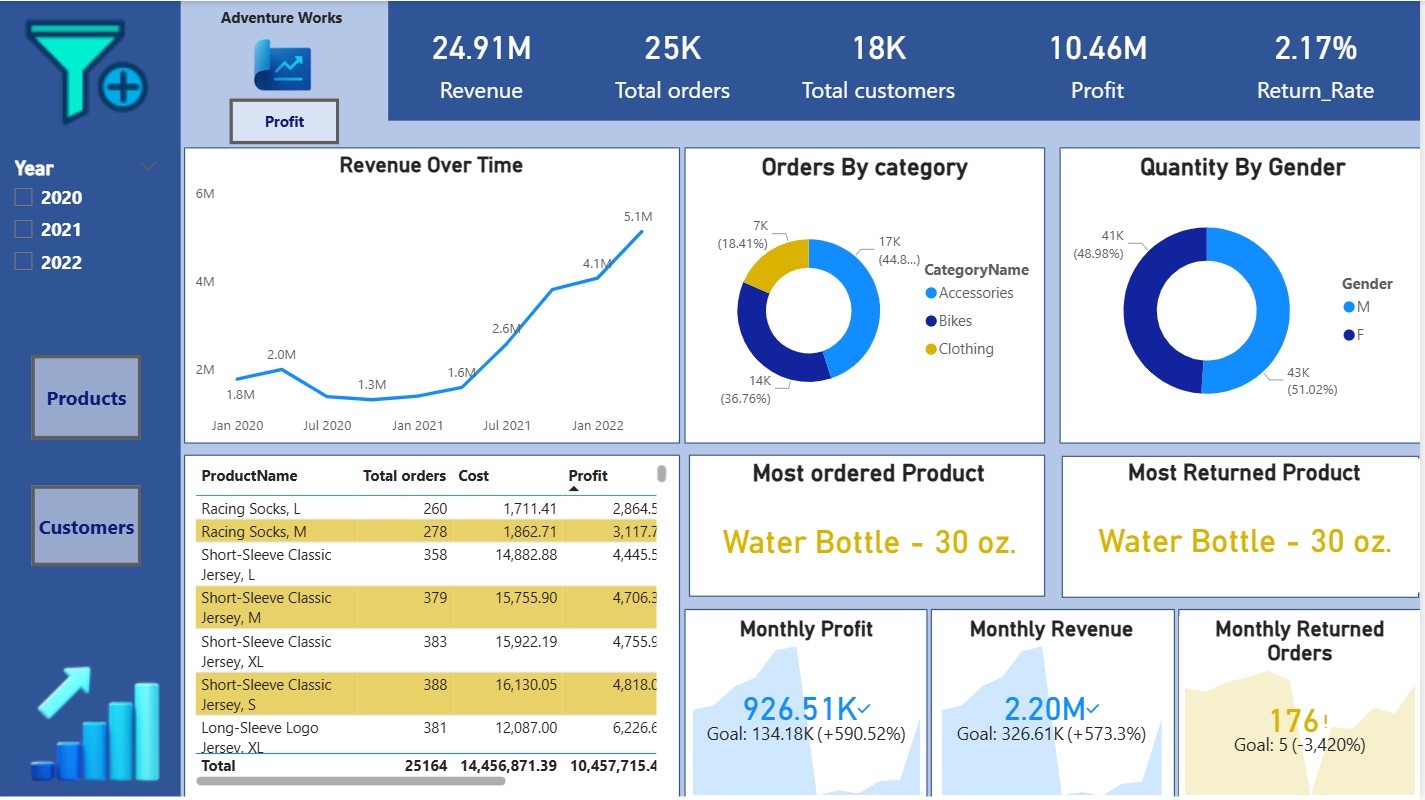

Layout of this report page (visuals, bound fields, positions):
{"tool":"powerbi","page":{"name":"Adventure Dashboard","canvas":[1280,720],"ordinal":0},"visuals":[{"type":"card","fields":{"Values":["Measures Table (2).Revenue"]},"box":[351.2,0,163.8,106.9],"z":0},{"type":"card","fields":{"Values":["Measures Table (2).Totala orders"]},"box":[522.7,0,165.2,106.9],"z":1000},{"type":"card","fields":{"Values":["Measures Table (2).Total customers"]},"box":[695.5,0,190.2,106.9],"z":2000},{"type":"card","fields":{"Values":["Measures Table (2).Profit"]},"box":[893.4,0,190.2,106.9],"z":3000},{"type":"card","fields":{"Values":["Measures Table (2).Return_Rate"]},"box":[1091.2,0,188.8,106.9],"z":4000},{"type":"donutChart","title":"Quantity By Gender","fields":{"Category":["Customer.Gender"],"Y":["Measures Table (2).QNT Sold"]},"box":[959.3,136.1,320.7,259.6],"z":5000},{"type":"donutChart","title":"Orders By category","fields":{"Category":["Product Categories.CategoryName"],"Y":["Measures Table (2).Totala orders"]},"box":[619.2,136.1,320.7,259.6],"z":6000},{"type":"kpi","title":"Monthly Profit","fields":{"TrendLine":["Calendar.Month"],"Indicator":["Measures Table (2).Profit"],"Goal":["Measures Table (2).Prof prev month"]},"box":[619.2,553.9,215.2,166.6],"z":7000},{"type":"kpi","title":"Monthly Revenue","fields":{"TrendLine":["Calendar.Month"],"Indicator":["Measures Table (2).Revenue"],"Goal":["Measures Table (2).Rev Prev Month"]},"box":[844.1,553.9,208.2,166.6],"z":8000},{"type":"kpi","title":"Monthly Returned Orders","fields":{"Indicator":["Measures Table (2).QNT Returned"],"TrendLine":["Calendar.Month"],"Goal":["Measures Table (2).Returned Prev Month"]},"box":[1062,553.9,218,166.6],"z":9000},{"type":"card","title":"Most ordered Product","fields":{"Values":["Min(Product.ProductName)"]},"box":[626.1,412.3,313.8,120.8],"z":10000},{"type":"card","title":"Most Returned Product","fields":{"Values":["Min(Product.ProductName)"]},"box":[962.1,412.3,317.9,120.8],"z":11000},{"type":"actionButton","title":"Profit button","box":[206.2,87.4,99,41.2],"z":13000},{"type":"lineChart","title":"Revenue  Over Time","fields":{"Y":["Measures Table (2).Revenue"],"Category":["Calendar.Date.Variation.Date Hierarchy.Year","Calendar.Date.Variation.Date Hierarchy.Quarter"]},"box":[170.7,136.1,436.8,264.1],"z":15000},{"type":"tableEx","fields":{"Values":["Product.ProductName","Measures Table (2).Totala orders","Measures Table (2).Cost","Measures Table (2).Profit","Measures Table (2).Revenue","Measures Table (2).Return_Rate"]},"box":[169.9,412.4,435.5,300.2],"z":16000},{"type":"slicer","fields":{"Values":["Calendar.Date.Variation.Date Hierarchy.Year"]},"box":[0,134.7,154.1,149.9],"z":17000},{"type":"image","box":[0,579,169.9,141.9],"z":18000},{"type":"textbox","box":[169.9,0,166.6,75.9],"z":19000},{"type":"image","box":[173.2,26.4,163.3,61],"z":20000},{"type":"image","box":[1.6,0,153.4,128.7],"z":21000},{"type":"actionButton","title":"Profit button","box":[28,318.4,99,75.9],"z":22000},{"type":"actionButton","title":"Profit button","box":[28,437.1,99,72.6],"z":22001}]}

Visuals, with their boxes in screenshot pixels (x1, y1, x2, y2), scaled from the page's 1280x720 canvas onto the 1425x800 screenshot:
card - Measures Table (2).Revenue: (x1=391, y1=0, x2=573, y2=119)
card - Measures Table (2).Totala orders: (x1=582, y1=0, x2=766, y2=119)
card - Measures Table (2).Total customers: (x1=774, y1=0, x2=986, y2=119)
card - Measures Table (2).Profit: (x1=995, y1=0, x2=1206, y2=119)
card - Measures Table (2).Return_Rate: (x1=1215, y1=0, x2=1424, y2=119)
"Quantity By Gender" donutChart: (x1=1068, y1=151, x2=1424, y2=440)
"Orders By category" donutChart: (x1=689, y1=151, x2=1046, y2=440)
"Monthly Profit" kpi: (x1=689, y1=615, x2=929, y2=799)
"Monthly Revenue" kpi: (x1=940, y1=615, x2=1172, y2=799)
"Monthly Returned Orders" kpi: (x1=1182, y1=615, x2=1424, y2=799)
"Most ordered Product" card: (x1=697, y1=458, x2=1046, y2=592)
"Most Returned Product" card: (x1=1071, y1=458, x2=1424, y2=592)
"Profit button" actionButton: (x1=230, y1=97, x2=340, y2=143)
"Revenue  Over Time" lineChart: (x1=190, y1=151, x2=676, y2=445)
tableEx - Product.ProductName x Measures Table (2).Totala orders: (x1=189, y1=458, x2=674, y2=792)
slicer - Calendar.Date.Variation.Date Hierarchy.Year: (x1=0, y1=150, x2=172, y2=316)
image: (x1=0, y1=643, x2=189, y2=799)
textbox: (x1=189, y1=0, x2=375, y2=84)
image: (x1=193, y1=29, x2=375, y2=97)
image: (x1=2, y1=0, x2=173, y2=143)
"Profit button" actionButton: (x1=31, y1=354, x2=141, y2=438)
"Profit button" actionButton: (x1=31, y1=486, x2=141, y2=566)
